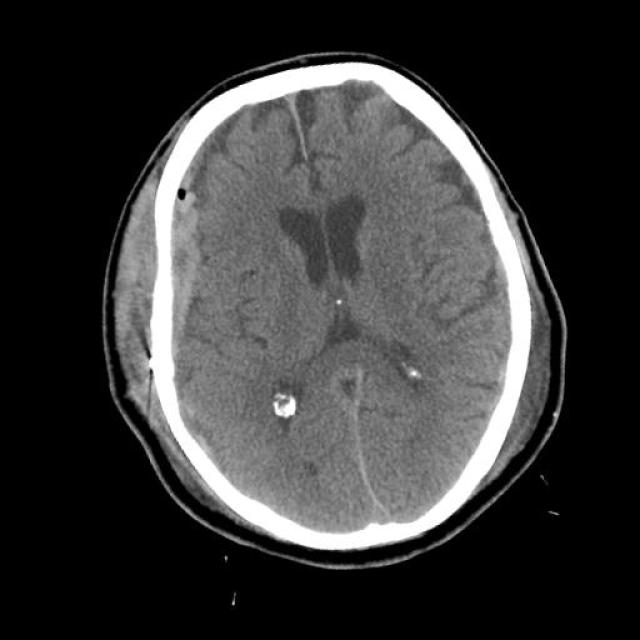Subdural: (42, 111, 298, 422)
